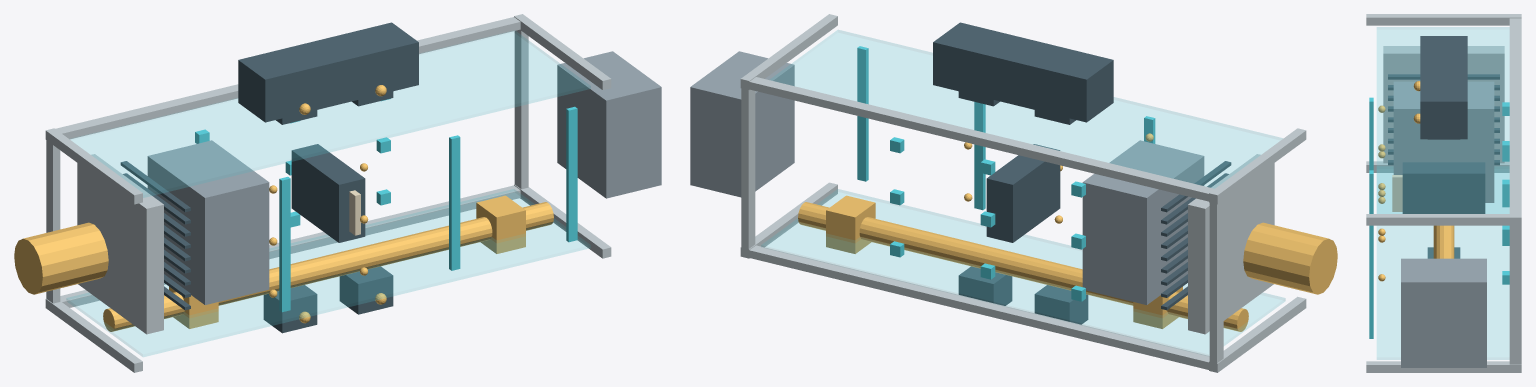
The model's file is FLOW-SHAPE-duct.glb.
The picture shows the model from 3 angles, left to right: view 1: azimuth 30°, elevation 25°; view 2: azimuth 150°, elevation 25°; view 3: azimuth 270°, elevation 25°; orthographic projection. The views are drawn at different scales.
Parts seen in each view (by area): view 1: window, frame, duct, dark, inlet, sensor, valve; view 2: window, frame, duct, dark, inlet, sensor, valve; view 3: window, duct, frame, dark, sensor, inlet, sample.
Boxes of the visible parts, left/top/right/bottom form: window: left=66, top=31, right=590, bottom=356; frame: left=45, top=14, right=611, bottom=372; duct: left=147, top=51, right=661, bottom=304; dark: left=120, top=22, right=418, bottom=333; inlet: left=14, top=85, right=553, bottom=331; sensor: left=195, top=98, right=577, bottom=312; valve: left=169, top=195, right=525, bottom=328; window: left=761, top=30, right=1285, bottom=355; frame: left=740, top=14, right=1306, bottom=372; duct: left=690, top=51, right=1204, bottom=304; dark: left=933, top=22, right=1231, bottom=324; inlet: left=798, top=133, right=1337, bottom=331; sensor: left=857, top=46, right=1155, bottom=301; valve: left=826, top=195, right=1182, bottom=328; window: left=1376, top=27, right=1509, bottom=359; duct: left=1393, top=81, right=1494, bottom=367; frame: left=1366, top=14, right=1521, bottom=372; dark: left=1388, top=36, right=1499, bottom=258; sensor: left=1369, top=97, right=1509, bottom=338; inlet: left=1378, top=81, right=1454, bottom=281; sample: left=1392, top=175, right=1402, bottom=211.
Size of the model in its own units: 416 by 171 by 105.
